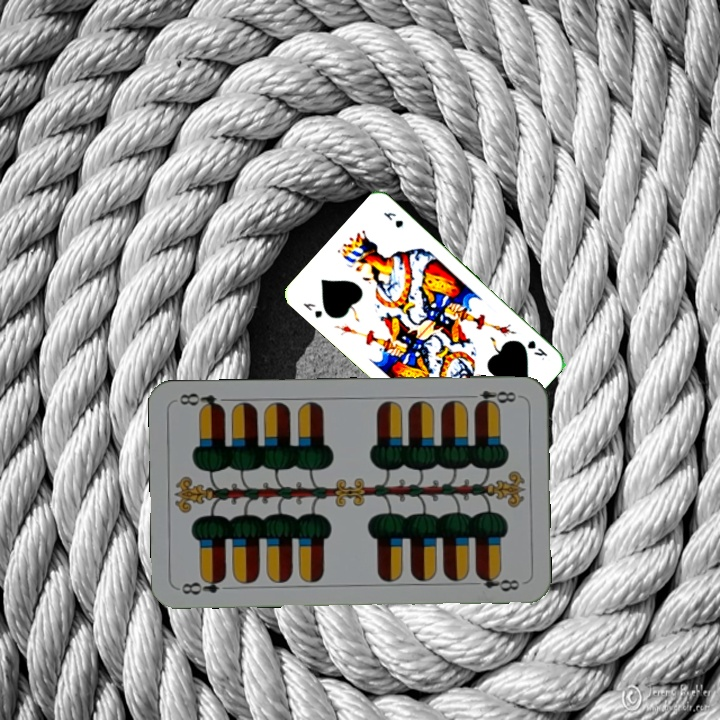E8: (463, 386, 522, 410), (177, 572, 228, 598)
GK: (523, 336, 550, 363), (299, 299, 325, 321)
